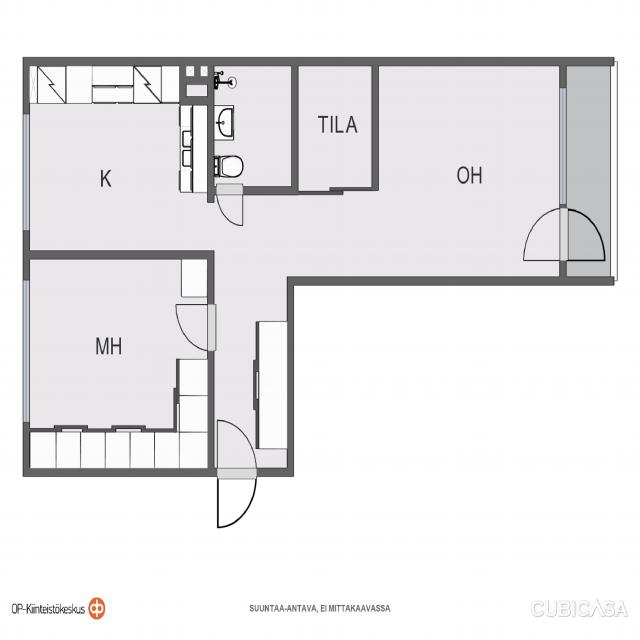door: (559, 208, 605, 260), (520, 208, 566, 260), (218, 467, 256, 528), (218, 416, 256, 476), (172, 304, 214, 351), (216, 186, 243, 231)
